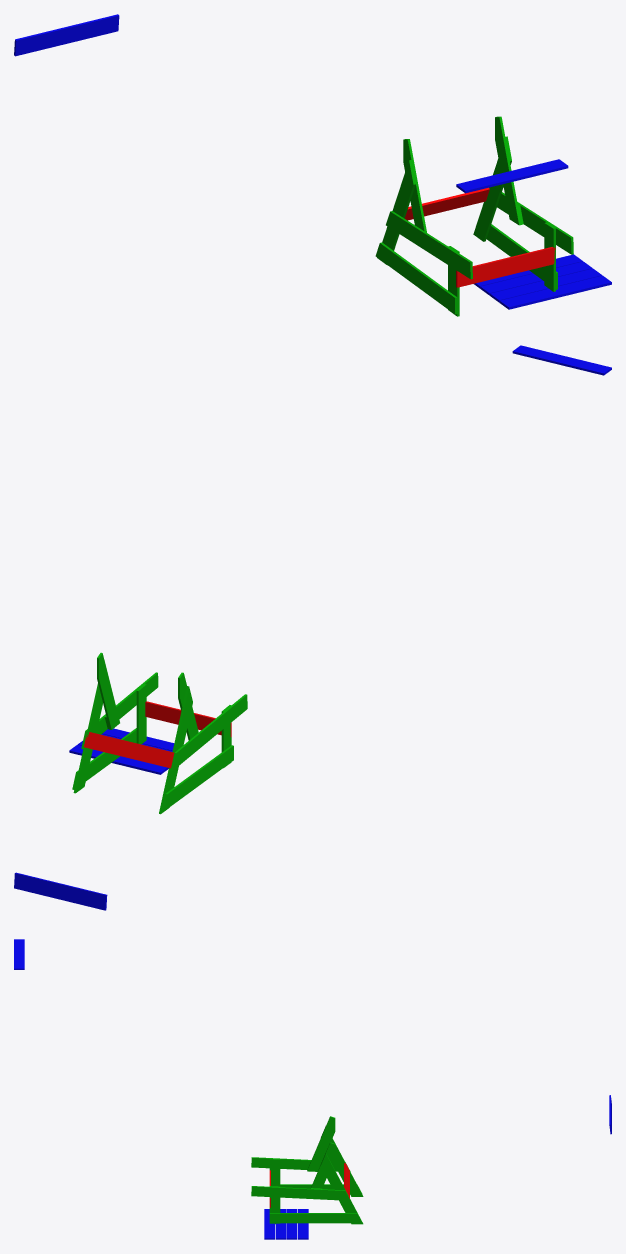
The model's file is result.glb.
3 views of the same model, one above another, from view 1: azimuth 30°, elevation 25°; view 2: azimuth 150°, elevation 25°; view 3: azimuth 270°, elevation 25° (orthographic). The views are drawn at different scales.
Visible parts, largest first — view 1: 31e55d45-a9a5-4db7-8022-a0b699042a02__Box_8, b9b83ea4-afbc-4d13-a98e-1e360974e7b4__Plane_1, 866b8c64-f7e1-4daf-beeb-da5cbcdd43a1__undefined, 72a7c724-af16-4b57-80fc-5e674a83485b__undefined, 5399eb75-71f9-493d-bbe6-daf58d946de4__Box_4, b6445f91-50f3-4ffc-ab7a-354627fd8146__Box_5, bce1a448-c8a1-4513-a0d8-a8d11c2bbb63__undefined, e99e081a-21bd-4c37-98e2-00368225953f__Plane_2, 0322dcb4-3a84-4c8f-ac32-926b1e3adba1__undefined, 7a81e330-55f5-4a7d-8862-702c496f94b2__undefined, 7a49e975-c075-4d7b-9df5-caade24a667c__Box_1, 812293d3-8a57-4b38-ad7c-a72c933a0a00__undefined (+5 smaller); view 2: 31e55d45-a9a5-4db7-8022-a0b699042a02__Box_8, e99e081a-21bd-4c37-98e2-00368225953f__Plane_2, 866b8c64-f7e1-4daf-beeb-da5cbcdd43a1__undefined, 72a7c724-af16-4b57-80fc-5e674a83485b__undefined, 5399eb75-71f9-493d-bbe6-daf58d946de4__Box_4, 7a81e330-55f5-4a7d-8862-702c496f94b2__undefined, bce1a448-c8a1-4513-a0d8-a8d11c2bbb63__undefined, b9b83ea4-afbc-4d13-a98e-1e360974e7b4__Plane_1, 812293d3-8a57-4b38-ad7c-a72c933a0a00__undefined, 0322dcb4-3a84-4c8f-ac32-926b1e3adba1__undefined; view 3: 0322dcb4-3a84-4c8f-ac32-926b1e3adba1__undefined, bea5ccb7-66b7-41b0-b911-b47ffef239b2__Plane, c280bd60-9cc1-4f8f-b1a4-bb087676f6d4__undefined, 866b8c64-f7e1-4daf-beeb-da5cbcdd43a1__undefined, 812293d3-8a57-4b38-ad7c-a72c933a0a00__undefined, 7a81e330-55f5-4a7d-8862-702c496f94b2__undefined.
Part boxes in pixels (x1,y1,x2,y2): 31e55d45-a9a5-4db7-8022-a0b699042a02__Box_8: (14, 14, 119, 56); b9b83ea4-afbc-4d13-a98e-1e360974e7b4__Plane_1: (456, 247, 555, 287); 866b8c64-f7e1-4daf-beeb-da5cbcdd43a1__undefined: (386, 211, 472, 279); 72a7c724-af16-4b57-80fc-5e674a83485b__undefined: (375, 242, 457, 314); 5399eb75-71f9-493d-bbe6-daf58d946de4__Box_4: (456, 159, 568, 193); b6445f91-50f3-4ffc-ab7a-354627fd8146__Box_5: (499, 275, 611, 309); bce1a448-c8a1-4513-a0d8-a8d11c2bbb63__undefined: (495, 116, 521, 225); e99e081a-21bd-4c37-98e2-00368225953f__Plane_2: (404, 187, 489, 220); 0322dcb4-3a84-4c8f-ac32-926b1e3adba1__undefined: (497, 192, 573, 254); 7a81e330-55f5-4a7d-8862-702c496f94b2__undefined: (377, 160, 415, 265); 7a49e975-c075-4d7b-9df5-caade24a667c__Box_1: (490, 268, 602, 302); 812293d3-8a57-4b38-ad7c-a72c933a0a00__undefined: (473, 136, 511, 241); 31e55d45-a9a5-4db7-8022-a0b699042a02__Box_8: (14, 872, 107, 910); e99e081a-21bd-4c37-98e2-00368225953f__Plane_2: (84, 732, 174, 768); 866b8c64-f7e1-4daf-beeb-da5cbcdd43a1__undefined: (170, 694, 247, 770); 72a7c724-af16-4b57-80fc-5e674a83485b__undefined: (161, 745, 233, 811); 5399eb75-71f9-493d-bbe6-daf58d946de4__Box_4: (512, 345, 611, 375); 7a81e330-55f5-4a7d-8862-702c496f94b2__undefined: (159, 686, 192, 814); bce1a448-c8a1-4513-a0d8-a8d11c2bbb63__undefined: (97, 652, 119, 729); b9b83ea4-afbc-4d13-a98e-1e360974e7b4__Plane_1: (145, 701, 231, 736); 812293d3-8a57-4b38-ad7c-a72c933a0a00__undefined: (73, 683, 102, 793); 0322dcb4-3a84-4c8f-ac32-926b1e3adba1__undefined: (81, 672, 158, 749); 0322dcb4-3a84-4c8f-ac32-926b1e3adba1__undefined: (251, 1186, 350, 1200); bea5ccb7-66b7-41b0-b911-b47ffef239b2__Plane: (269, 1213, 362, 1223); c280bd60-9cc1-4f8f-b1a4-bb087676f6d4__undefined: (307, 1116, 335, 1171); 866b8c64-f7e1-4daf-beeb-da5cbcdd43a1__undefined: (251, 1157, 350, 1171); 812293d3-8a57-4b38-ad7c-a72c933a0a00__undefined: (320, 1153, 363, 1224); 7a81e330-55f5-4a7d-8862-702c496f94b2__undefined: (321, 1126, 363, 1196).
Bounding box in the file's own units: 2051 × 1838 × 5039.
